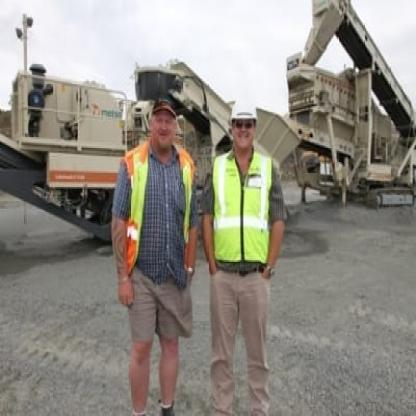person: (200, 87, 292, 410), (105, 86, 191, 414)
